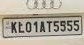numberplate: (2, 16, 82, 36)
